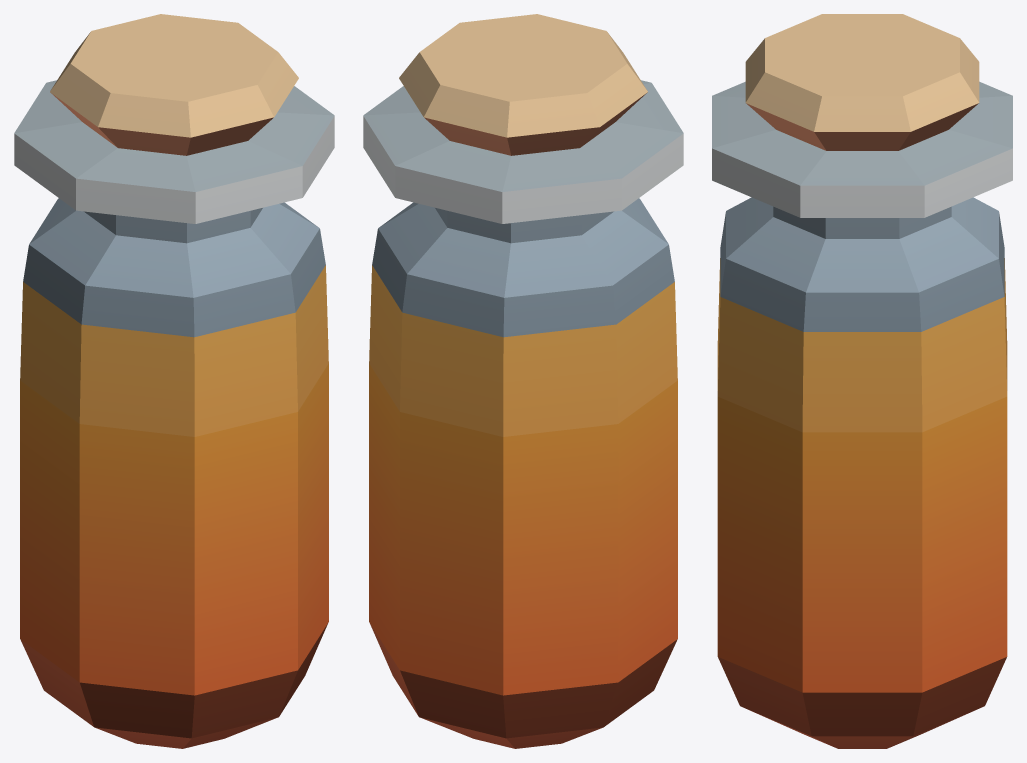
The model's file is source.glb.
3 views of the same model, side by side, from view 1: azimuth 30°, elevation 25°; view 2: azimuth 150°, elevation 25°; view 3: azimuth 270°, elevation 25° (orthographic).
Parts seen in each view (by area): view 1: model; view 2: model; view 3: model.
Boxes of the visible parts, x1,y1,x2,y2 form: model: [14, 14, 334, 748]; model: [363, 14, 683, 748]; model: [712, 14, 1012, 748].
Bounding box in the file's own units: 0.22 × 0.54 × 0.22.
1 material, 1 textured.
